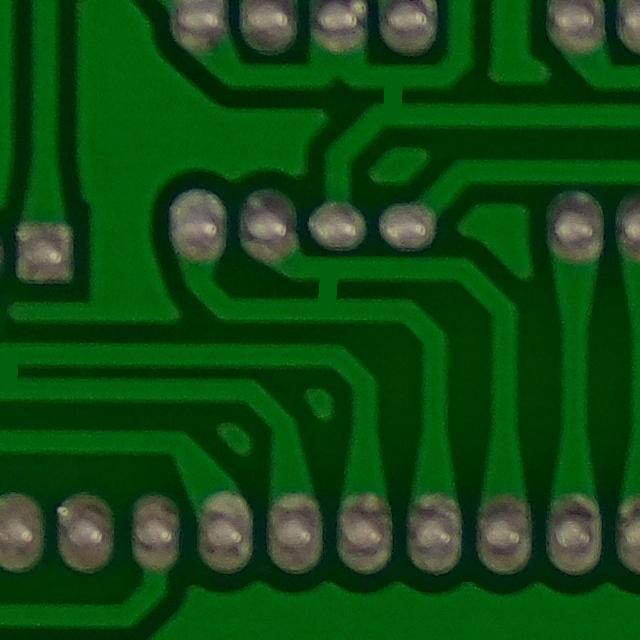short: (288, 249, 364, 332), (352, 58, 428, 132), (0, 332, 47, 418)
